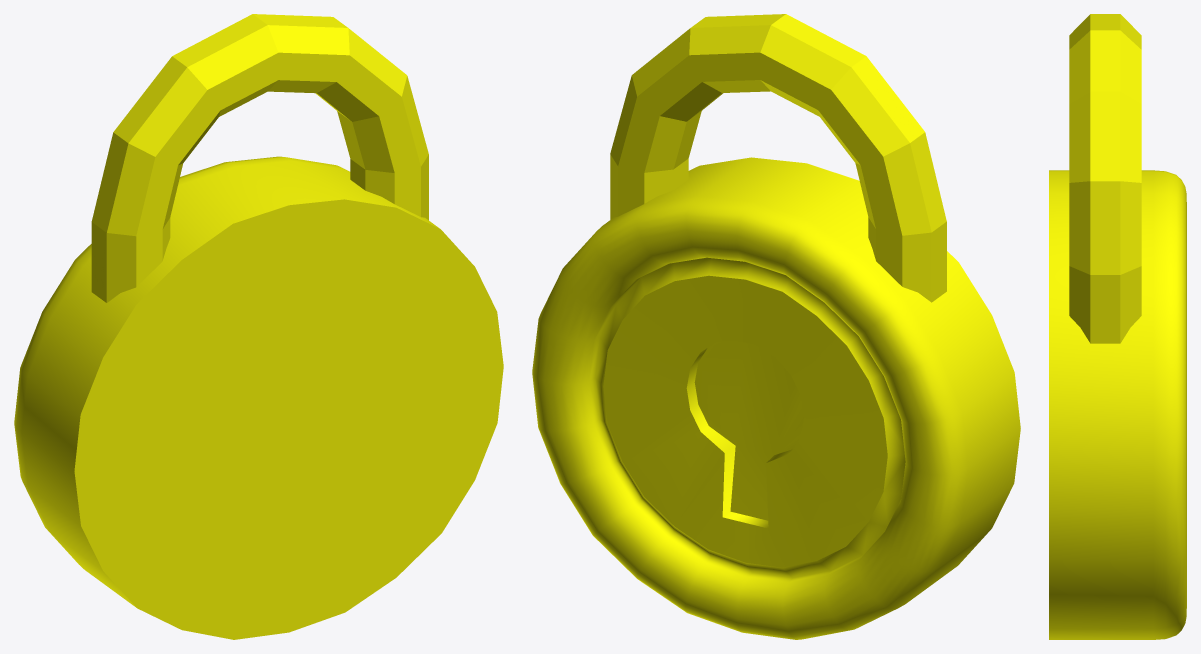
3 views of the same model, side by side, from view 1: azimuth 30°, elevation 25°; view 2: azimuth 150°, elevation 25°; view 3: azimuth 270°, elevation 25° (orthographic).
Visible parts, largest first — view 1: Lock, Lock.001; view 2: Lock, Lock.001; view 3: Lock, Lock.001.
Part boxes in pixels (left/top/right/bottom): Lock: left=14, top=156, right=503, bottom=639; Lock.001: left=91, top=14, right=428, bottom=302; Lock: left=532, top=157, right=1020, bottom=639; Lock.001: left=610, top=14, right=946, bottom=302; Lock: left=1049, top=170, right=1186, bottom=639; Lock.001: left=1069, top=14, right=1141, bottom=343.
Bounding box in the file's own units: 2.07 × 2.73 × 0.5809.
2 materials, 2 textured.
